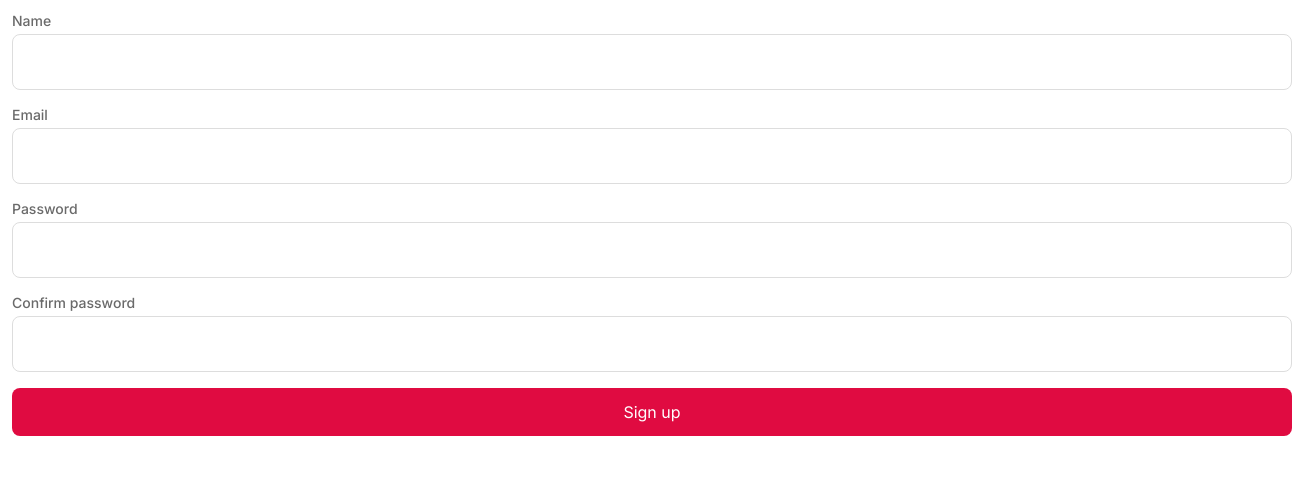
RegisterForm › shows the API error
Type "Ana" into the field labelled "Name".
click(652, 62); type("Ana")  # box [12, 34, 1292, 90]
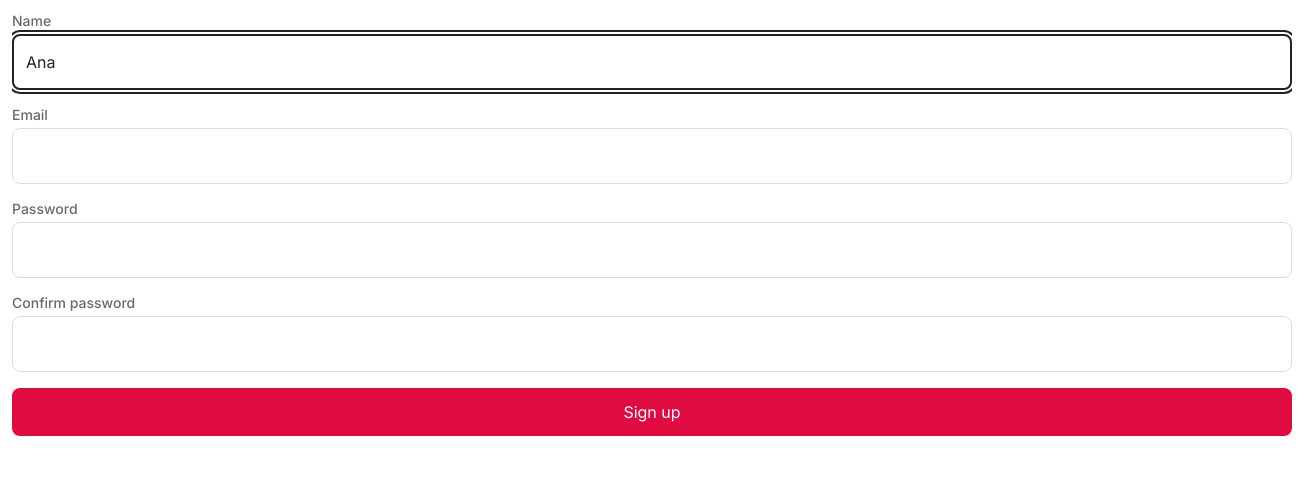
Type "a@b.com" into the field labelled "Email".
click(652, 156); type("a@b.com")  # box [12, 128, 1292, 184]
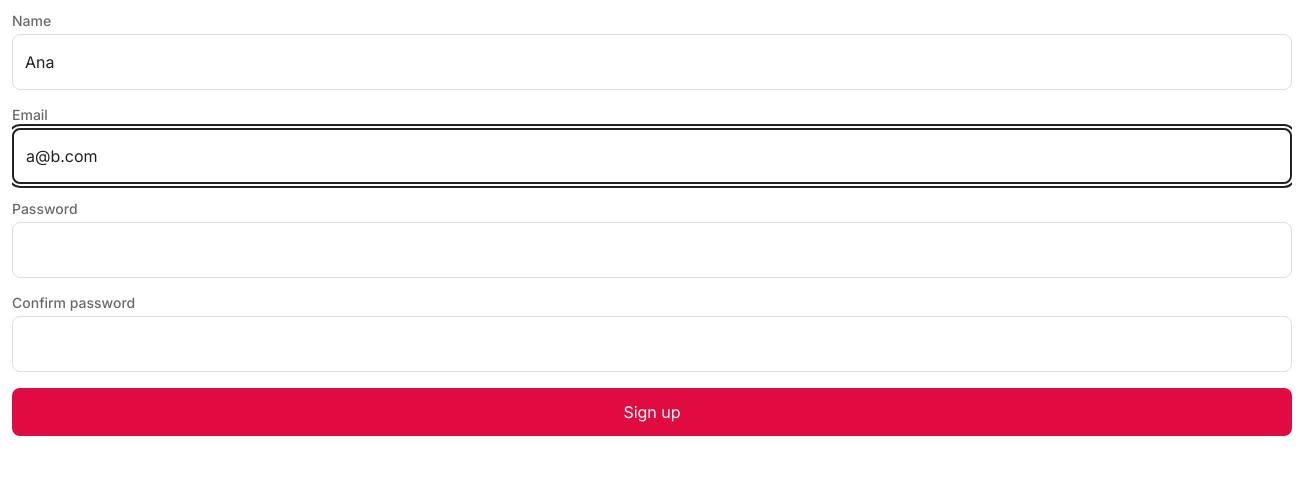
Type "supersecret" into the password field labelled "Password".
click(652, 250); type("supersecret")  # box [12, 222, 1292, 278]
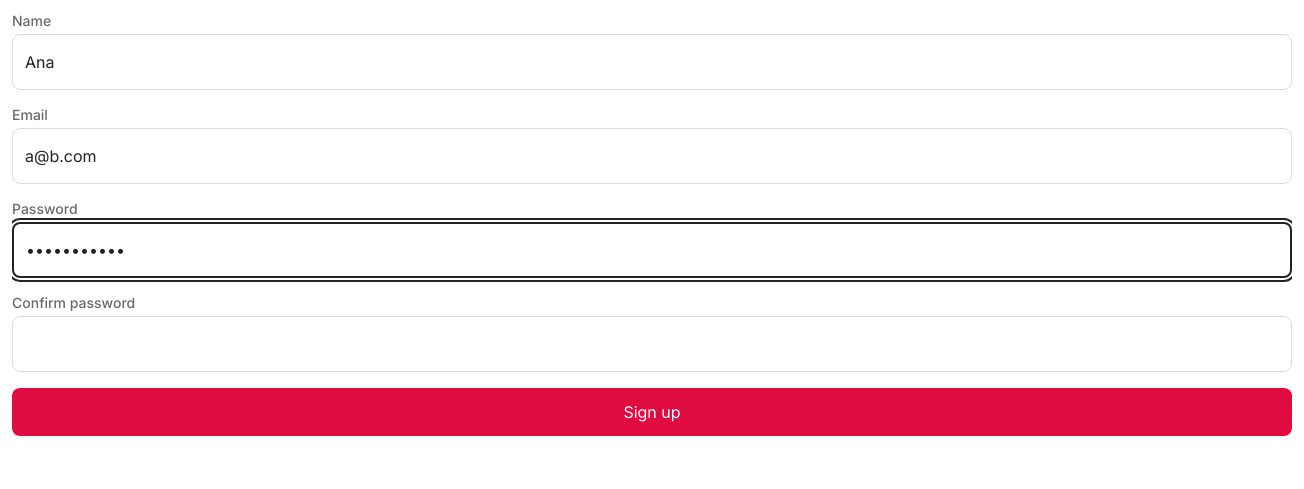
Type "supersecret" into the password field labelled "Confirm password".
click(652, 344); type("supersecret")  # box [12, 316, 1292, 372]
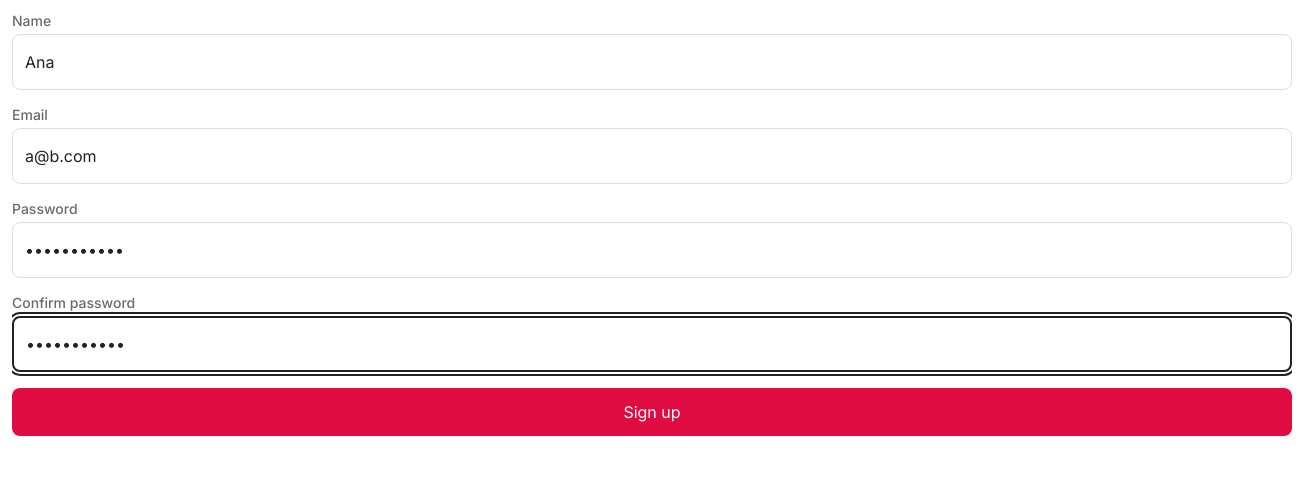
Click the button "Sign up".
click(652, 412)  # box [12, 388, 1292, 436]
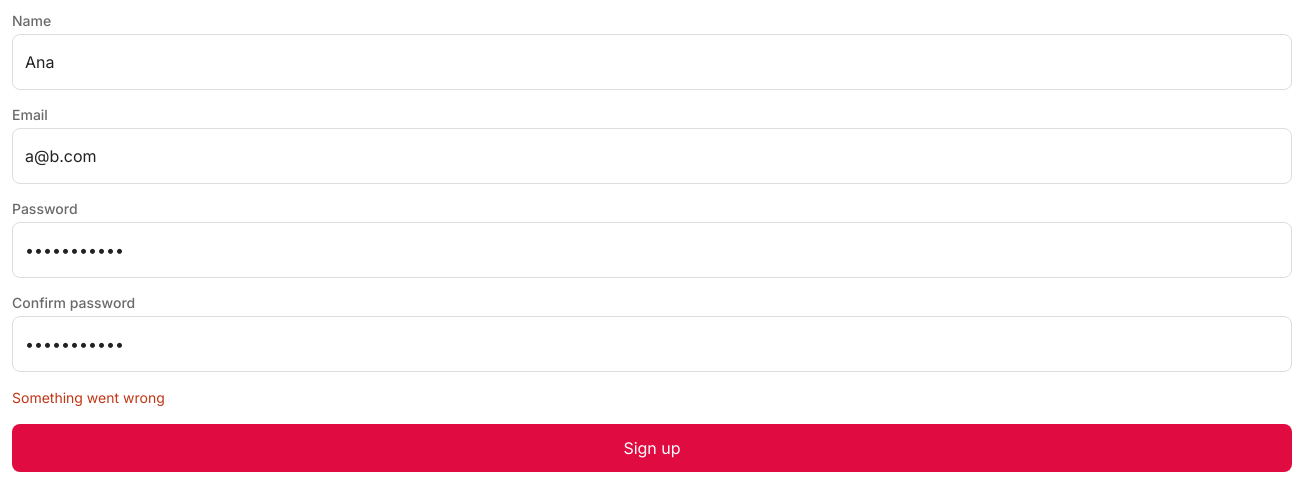
Expected: the message reads "Something went wrong", [12, 389, 165, 406]
